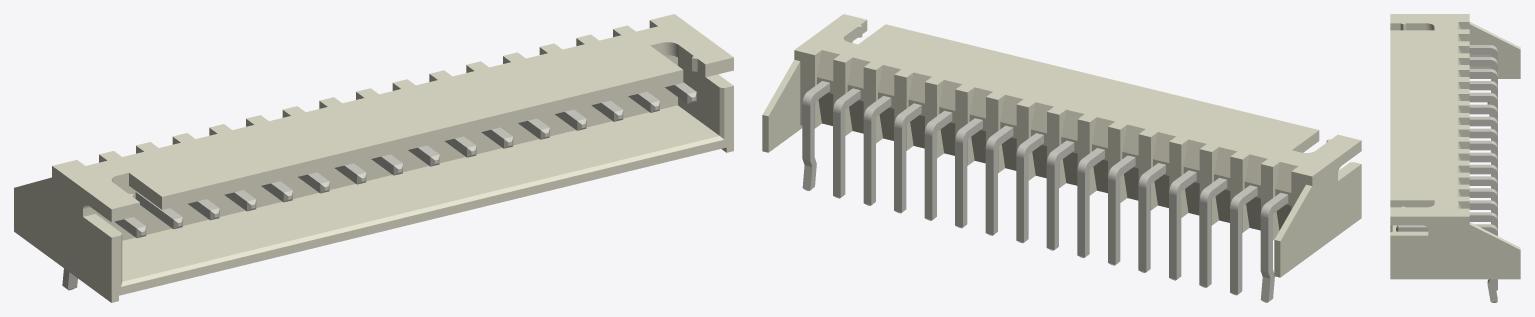
File: kc-jst_xh_s16b-xh-a_1x16_p2.50mm_horizontal.glb
3 views of the same model, side by side, from view 1: azimuth 30°, elevation 25°; view 2: azimuth 150°, elevation 25°; view 3: azimuth 270°, elevation 25° (orthographic). The views are drawn at different scales.
Parts seen in each view (by area): view 1: 0.75_0.75_0.5833333333333334_0, 0.6666666666666666_0.6666666666666666_0.5833333333333334_0.8; view 2: 0.75_0.75_0.5833333333333334_0, 0.6666666666666666_0.6666666666666666_0.5833333333333334_0.8; view 3: 0.75_0.75_0.5833333333333334_0, 0.6666666666666666_0.6666666666666666_0.5833333333333334_0.8.
Part boxes in pixels (x1,y1,x2,y2): 0.75_0.75_0.5833333333333334_0: (14, 14, 733, 302); 0.6666666666666666_0.6666666666666666_0.5833333333333334_0.8: (62, 82, 696, 290); 0.75_0.75_0.5833333333333334_0: (762, 14, 1361, 277); 0.6666666666666666_0.6666666666666666_0.5833333333333334_0.8: (802, 81, 1288, 302); 0.75_0.75_0.5833333333333334_0: (1390, 14, 1520, 279); 0.6666666666666666_0.6666666666666666_0.5833333333333334_0.8: (1396, 45, 1497, 302).
Size of the model in its own units: 4.24 by 0.9498 by 1.15.
